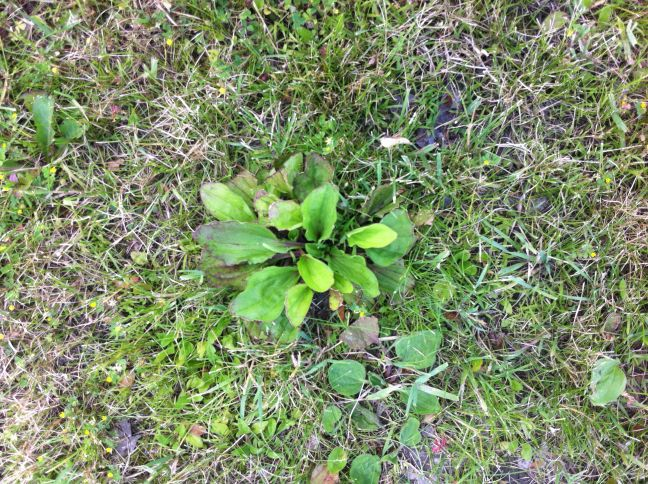weed1: (199, 155, 419, 330), (320, 330, 447, 430)
